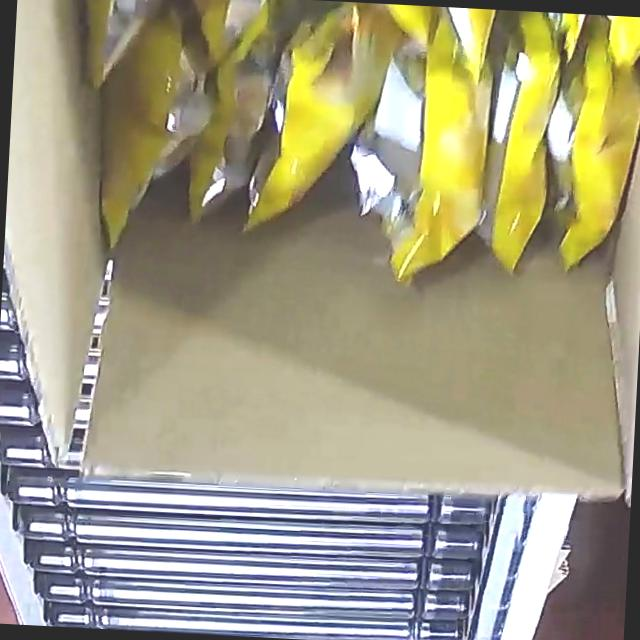salted: (79, 0, 640, 286)
